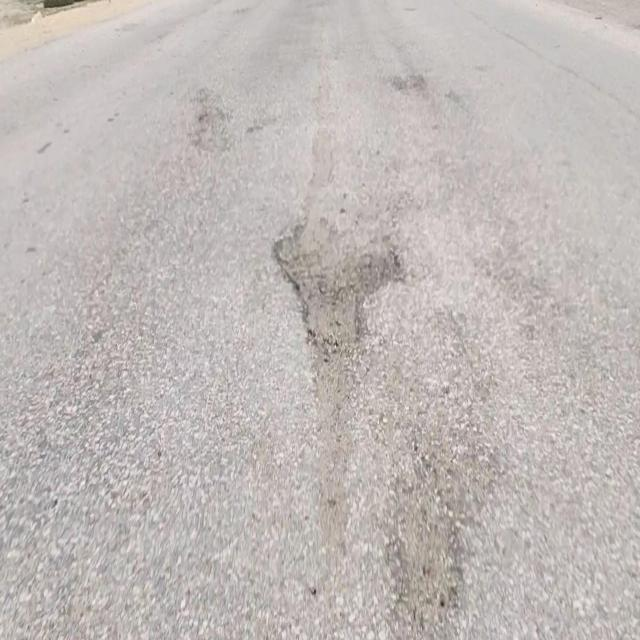Potholes: (272, 204, 407, 366), (390, 465, 466, 636)
